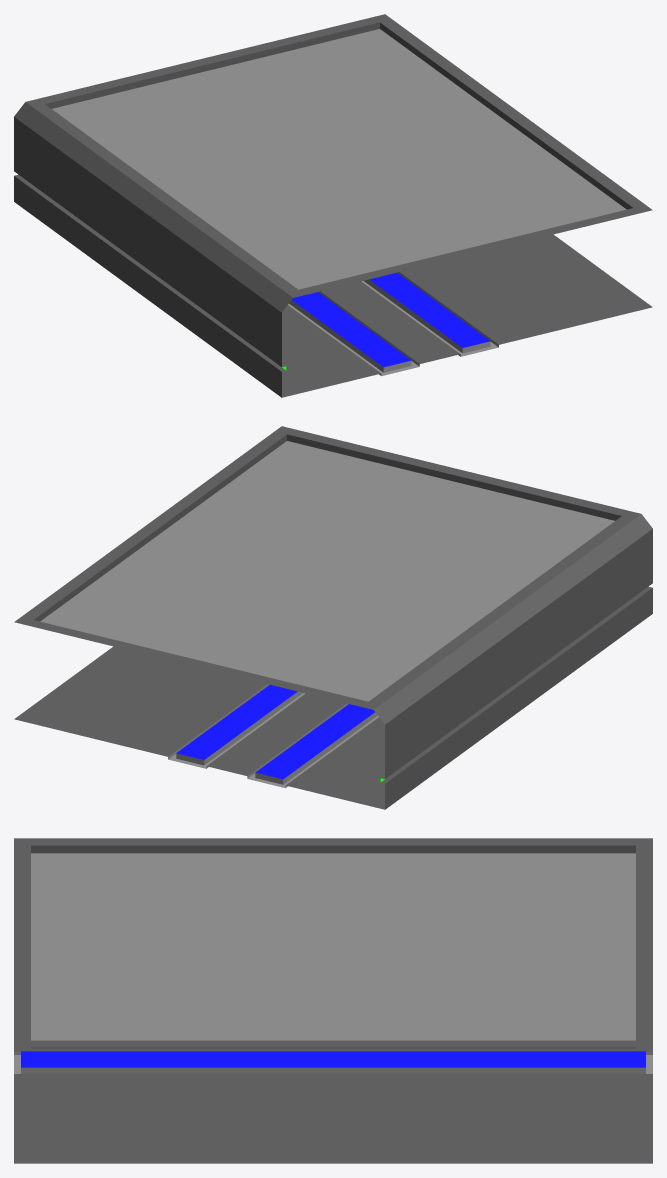
Rendered from Door_Eaves_04_Middle.FBX.
3 views of the same model, one above another, from view 1: azimuth 30°, elevation 25°; view 2: azimuth 150°, elevation 25°; view 3: azimuth 270°, elevation 25° (orthographic). The views are drawn at different scales.
Parts seen in each view (by area): view 1: Door_Eaves_04_Middle_LOD0; view 2: Door_Eaves_04_Middle_LOD0; view 3: Door_Eaves_04_Middle_LOD0.
Part boxes in pixels (bbox=[...]): Door_Eaves_04_Middle_LOD0: bbox=[14, 14, 652, 397]; Door_Eaves_04_Middle_LOD0: bbox=[14, 426, 652, 809]; Door_Eaves_04_Middle_LOD0: bbox=[14, 838, 652, 1163].
Size of what is drawn, in the model's own units: 72 by 18.5 by 90.
